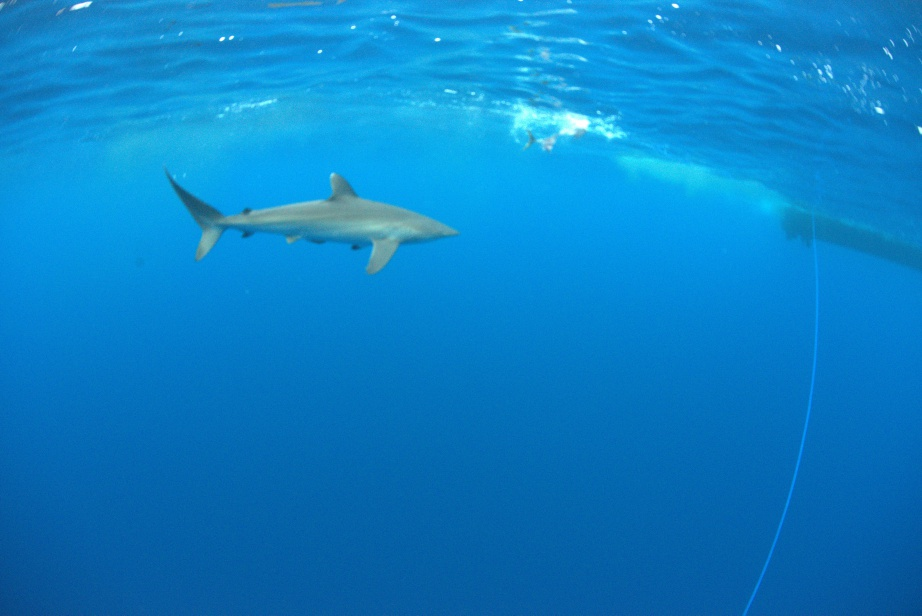Sedoso: (152, 146, 473, 299)
